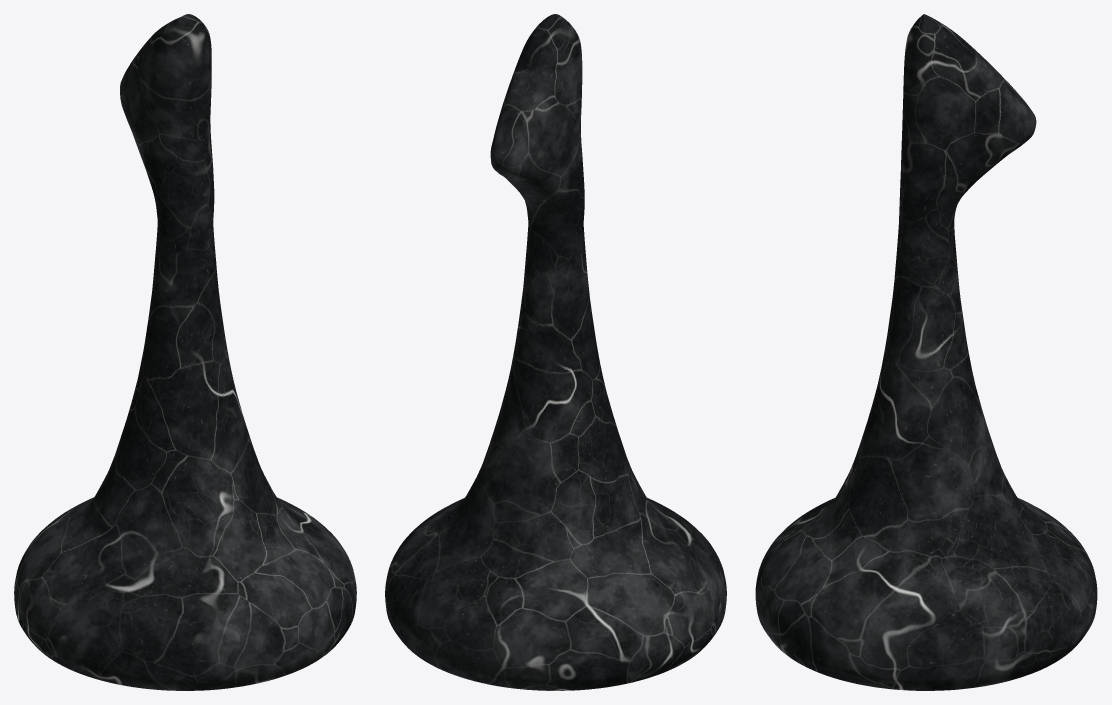
Rendered from knight-black-hd.glb.
3 renders of one model, left to right at view 1: azimuth 30°, elevation 25°; view 2: azimuth 150°, elevation 25°; view 3: azimuth 270°, elevation 25°, orthographic.
Parts seen in each view (by area): view 1: Serpentina_knight_black; view 2: Serpentina_knight_black; view 3: Serpentina_knight_black.
Part boxes in pixels (x1=…): Serpentina_knight_black: x1=14, y1=14, x2=356, y2=690; Serpentina_knight_black: x1=385, y1=14, x2=726, y2=690; Serpentina_knight_black: x1=755, y1=14, x2=1097, y2=690.
Bounding box in the file's own units: 0.6902 × 1.36 × 0.6902.
Materials: 1 (1 with a texture image).
